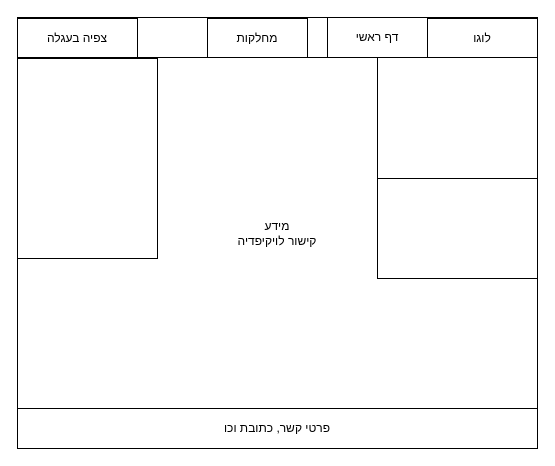
The diagram is 555 pixels wide and 466 high, and some of its shapes have lost their labels. Here are the shapes that lost their labels. From the top down, the centre of each, then its label:
At point 457,117: "תמונות".
At point 87,158: "מחיר כמות מחיר כולל".
At point 457,228: "סרטון (אם יש)".
